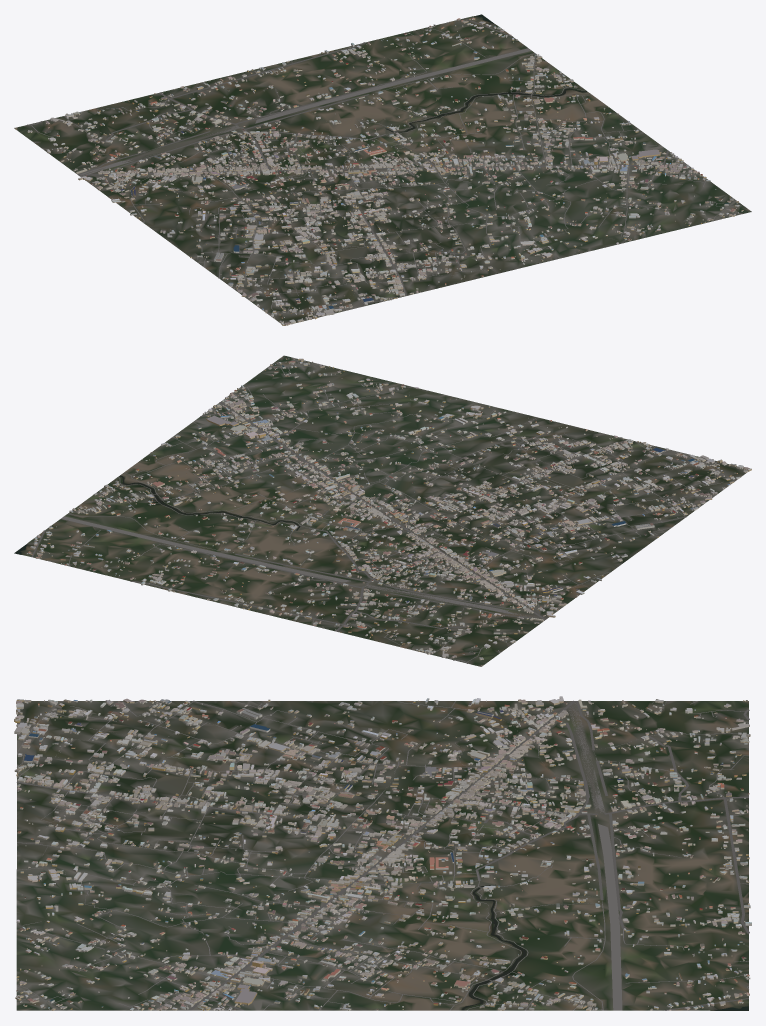
3 views of the same model, one above another, from view 1: azimuth 30°, elevation 25°; view 2: azimuth 150°, elevation 25°; view 3: azimuth 270°, elevation 25° (orthographic). The views are drawn at different scales.
Visible parts, largest first — view 1: ground, buildings, roads; view 2: ground, buildings, roads; view 3: ground, buildings, roads, water.
Part boxes in pixels (bbox=[...]): ground: bbox=[14, 16, 751, 325]; buildings: bbox=[14, 17, 743, 325]; roads: bbox=[27, 18, 733, 315]; ground: bbox=[14, 355, 748, 666]; buildings: bbox=[26, 358, 751, 666]; roads: bbox=[31, 360, 728, 663]; ground: bbox=[16, 701, 748, 1010]; buildings: bbox=[14, 696, 751, 1010]; roads: bbox=[16, 700, 749, 1010]; water: bbox=[461, 884, 748, 1010].
Size of the model in its own units: 2833 by 23.34 by 2824.
